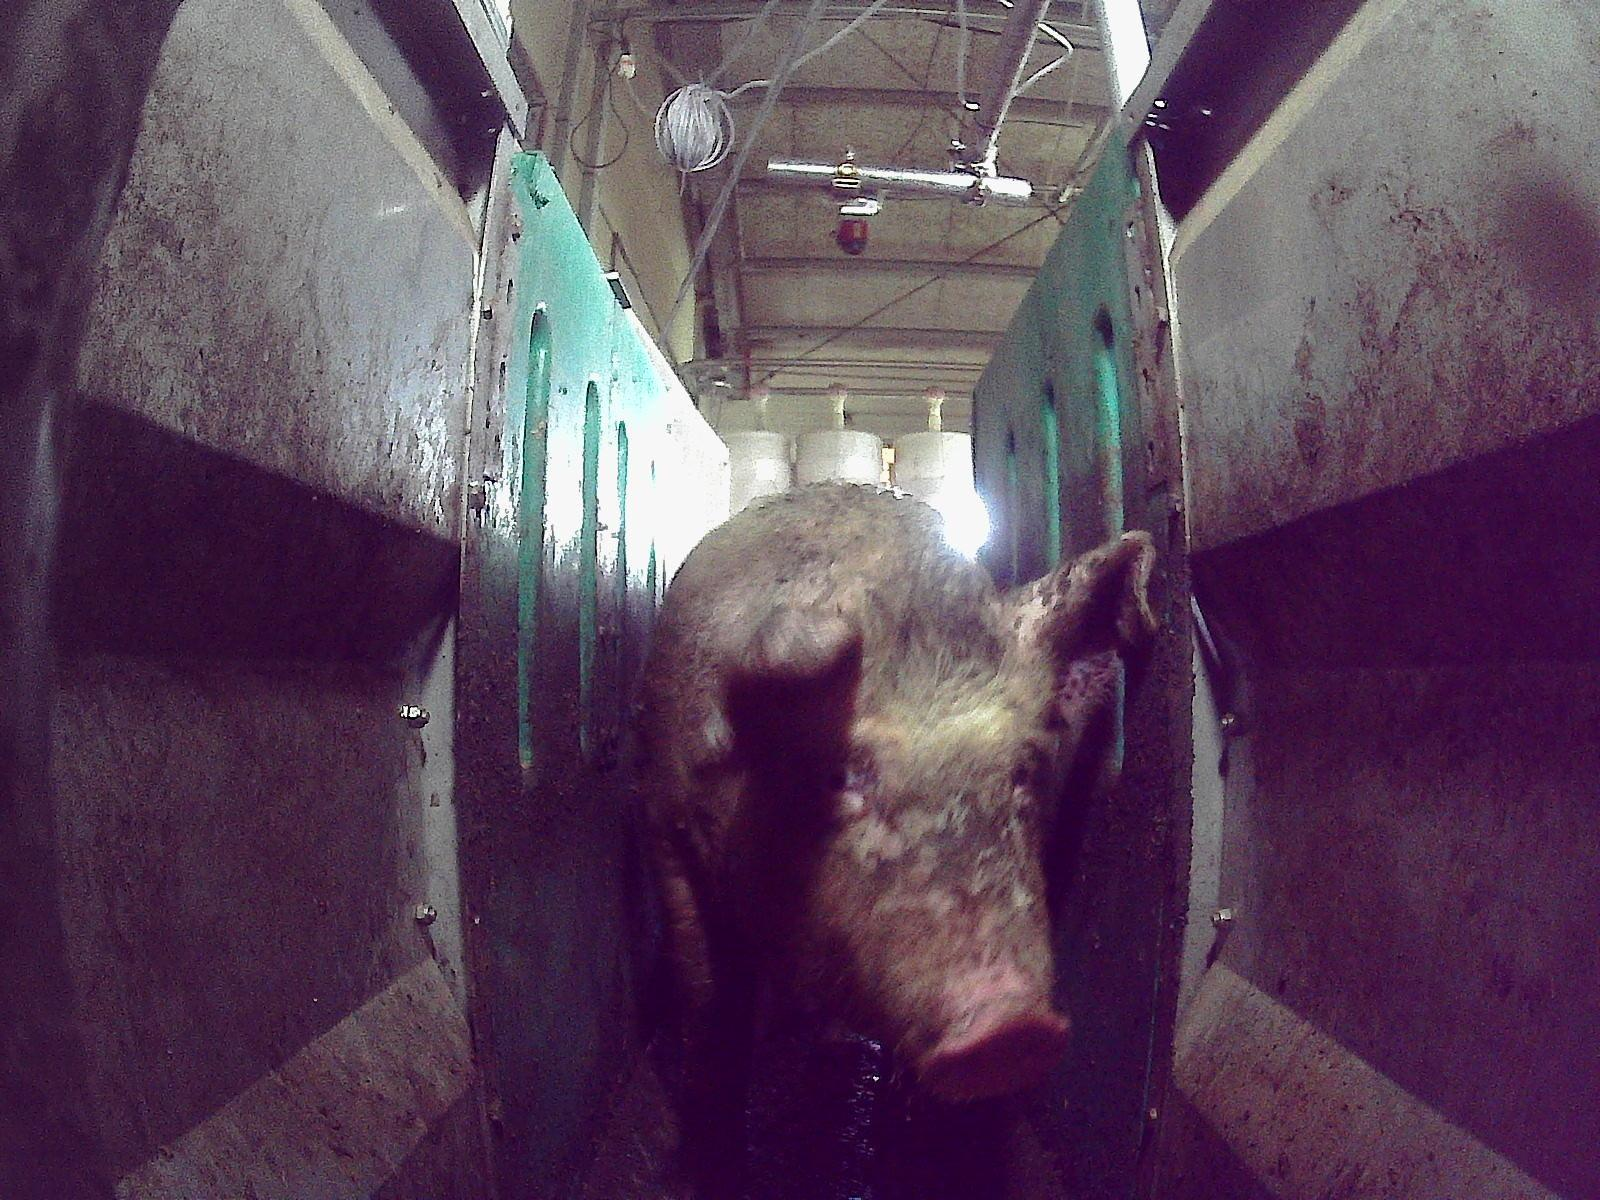Face: (742, 580, 1074, 1107)
